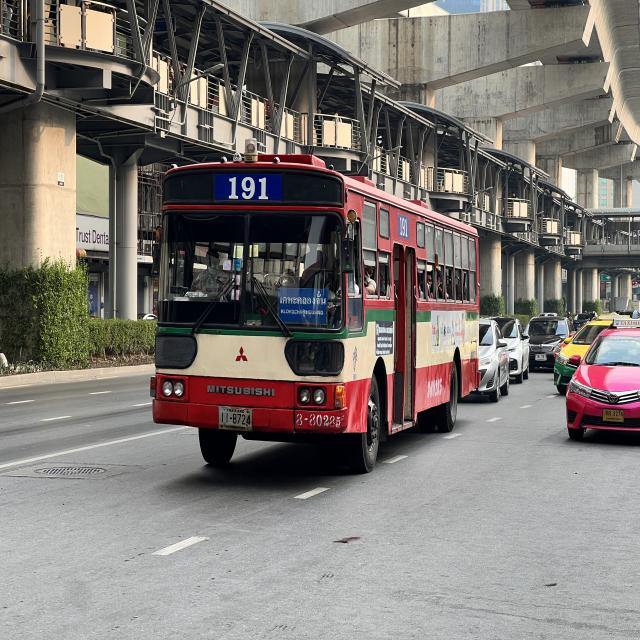BMTA-bus: (144, 138, 487, 482)
Bus-Line-Number: (219, 176, 279, 202)
Destination-Sign-Normal: (277, 285, 329, 328)
